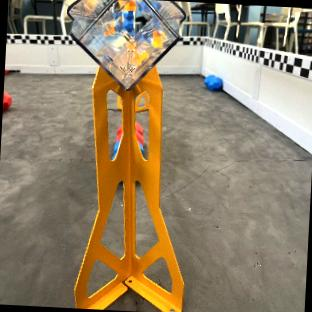V5_BLUE: (204, 74, 222, 90)
V5_RED: (2, 91, 11, 109)
